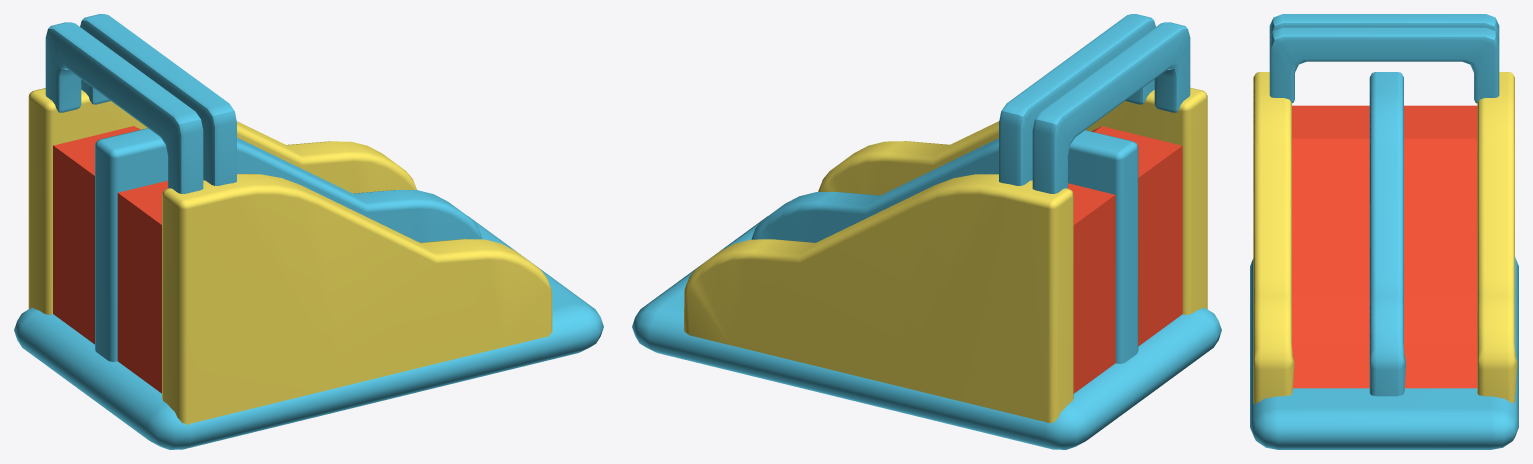
Rendered from Bouncing_Park_lvl_03.fbx.
3 renders of one model, left to right at view 1: azimuth 30°, elevation 25°; view 2: azimuth 150°, elevation 25°; view 3: azimuth 270°, elevation 25°, orthographic. The views are drawn at different scales.
Visible parts, largest first — view 1: Bouncing_Park_lvl_03; view 2: Bouncing_Park_lvl_03; view 3: Bouncing_Park_lvl_03.
Part boxes in pixels (x1,y1,x2,y2): Bouncing_Park_lvl_03: (14, 14, 603, 449); Bouncing_Park_lvl_03: (632, 14, 1221, 449); Bouncing_Park_lvl_03: (1250, 14, 1518, 449).
Size of the model in its own units: 773 by 533 by 475.
1 material, 1 textured.
